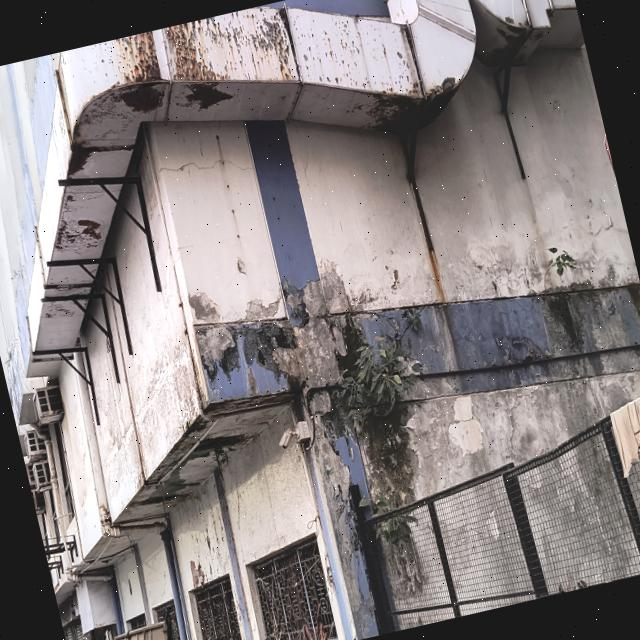Corrosion: (160, 7, 299, 82), (68, 80, 168, 175), (344, 82, 460, 136), (52, 193, 104, 259), (113, 31, 160, 83), (176, 82, 233, 111)
Paint Peeling: (313, 422, 377, 636), (272, 273, 346, 414), (196, 325, 234, 370), (190, 561, 204, 587)
Scaling: (157, 157, 252, 183), (189, 292, 220, 322), (245, 298, 280, 320)
